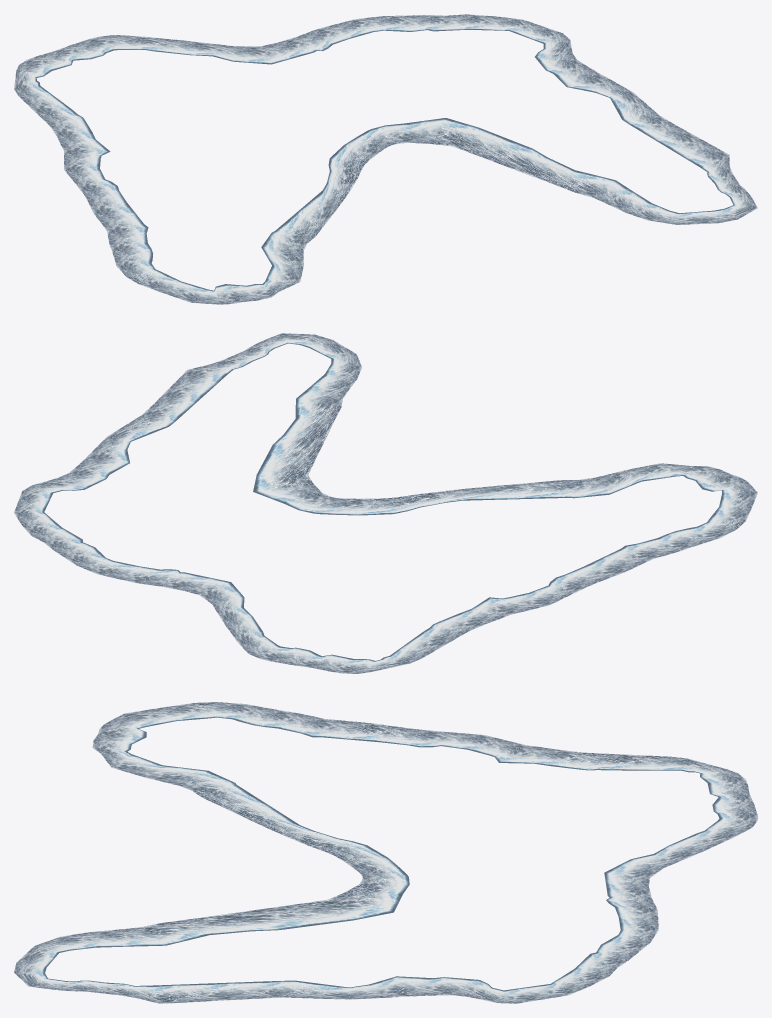
File: Snow_Island_05_coast.fbx
3 renders of one model, top to bottom at view 1: azimuth 30°, elevation 25°; view 2: azimuth 150°, elevation 25°; view 3: azimuth 270°, elevation 25°, orthographic. The views are drawn at different scales.
Parts seen in each view (by area): view 1: Snow_Island_05_coast; view 2: Snow_Island_05_coast; view 3: Snow_Island_05_coast.
Part boxes in pixels (x1,y1,x2,y2): Snow_Island_05_coast: [14, 14, 757, 304]; Snow_Island_05_coast: [14, 333, 757, 673]; Snow_Island_05_coast: [14, 702, 757, 1003].
Size of the model in its own units: 0.9156 by 2.33e-12 by 0.9533.
